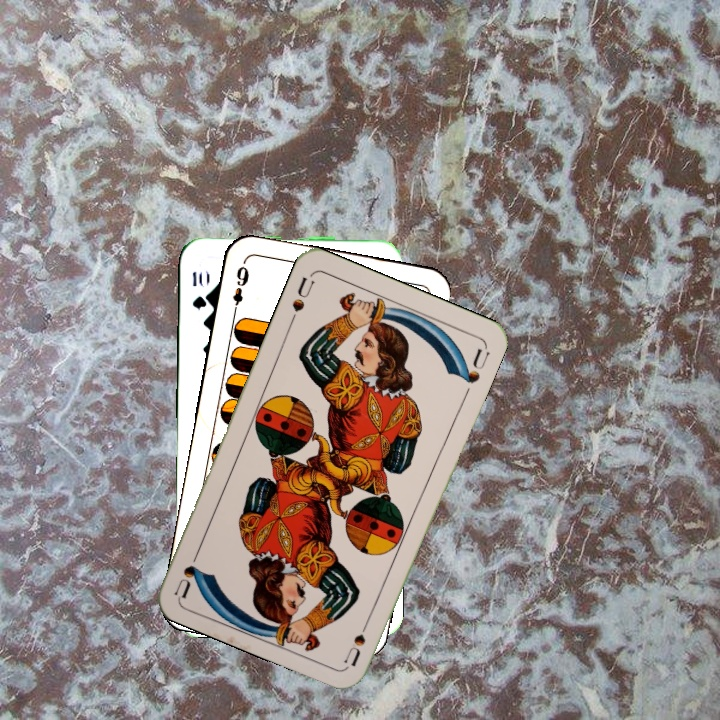E9: (228, 262, 252, 318)
G10: (188, 268, 208, 312)
SU: (339, 610, 374, 668), (285, 271, 318, 328)
